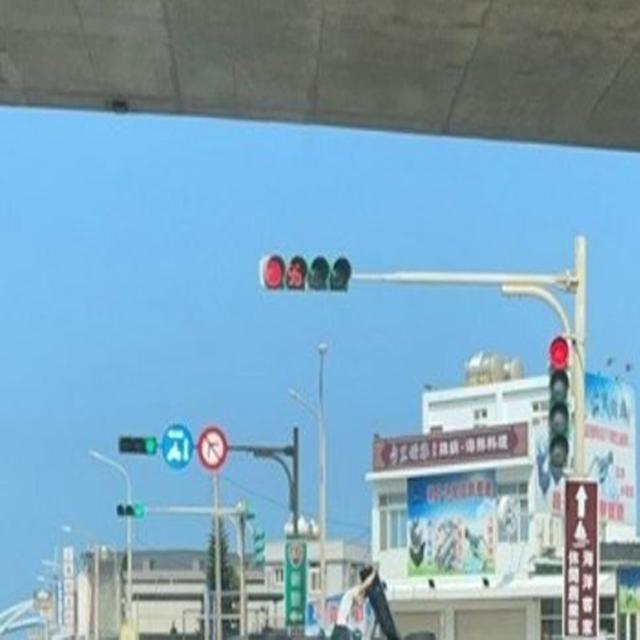green light: (119, 433, 158, 458), (116, 500, 146, 518)
red light: (259, 250, 352, 292), (548, 333, 570, 471)
